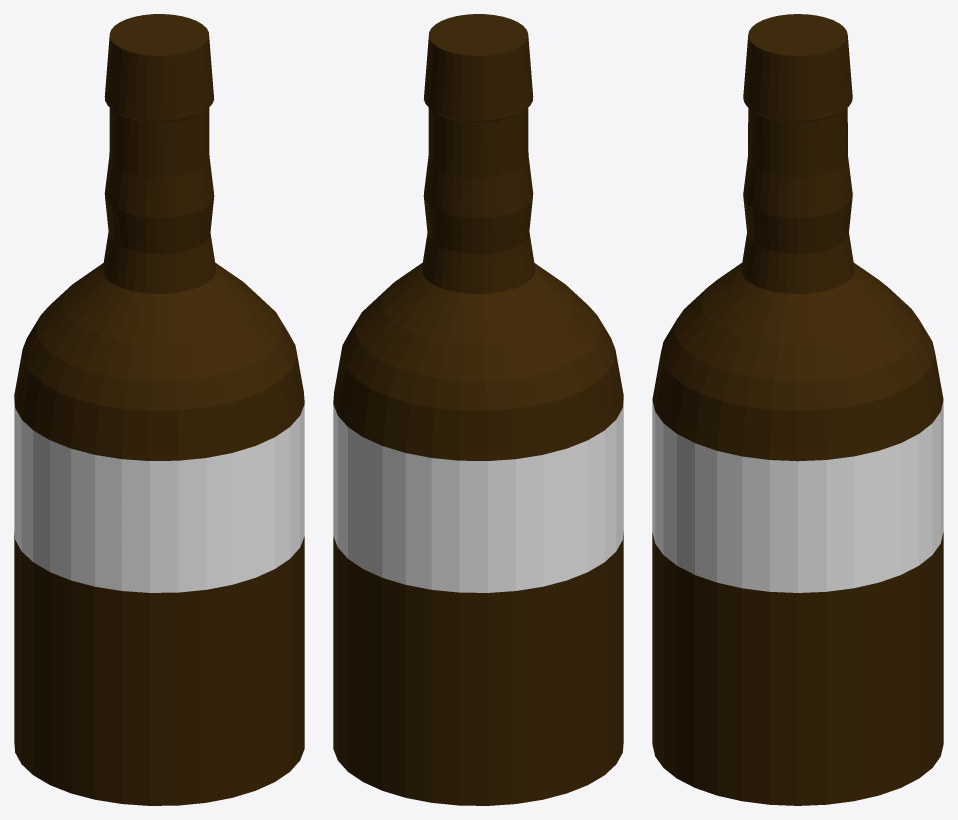
File: Bierflasche.fbx
3 views of the same model, side by side, from view 1: azimuth 30°, elevation 25°; view 2: azimuth 150°, elevation 25°; view 3: azimuth 270°, elevation 25° (orthographic).
Visible parts, largest first — view 1: Cylinder; view 2: Cylinder; view 3: Cylinder.
Part boxes in pixels (<box>): Cylinder: <box>14,14,304,805</box>; Cylinder: <box>333,14,623,805</box>; Cylinder: <box>652,14,943,805</box>.
Bounding box in the file's own units: 157 × 422 × 157.
